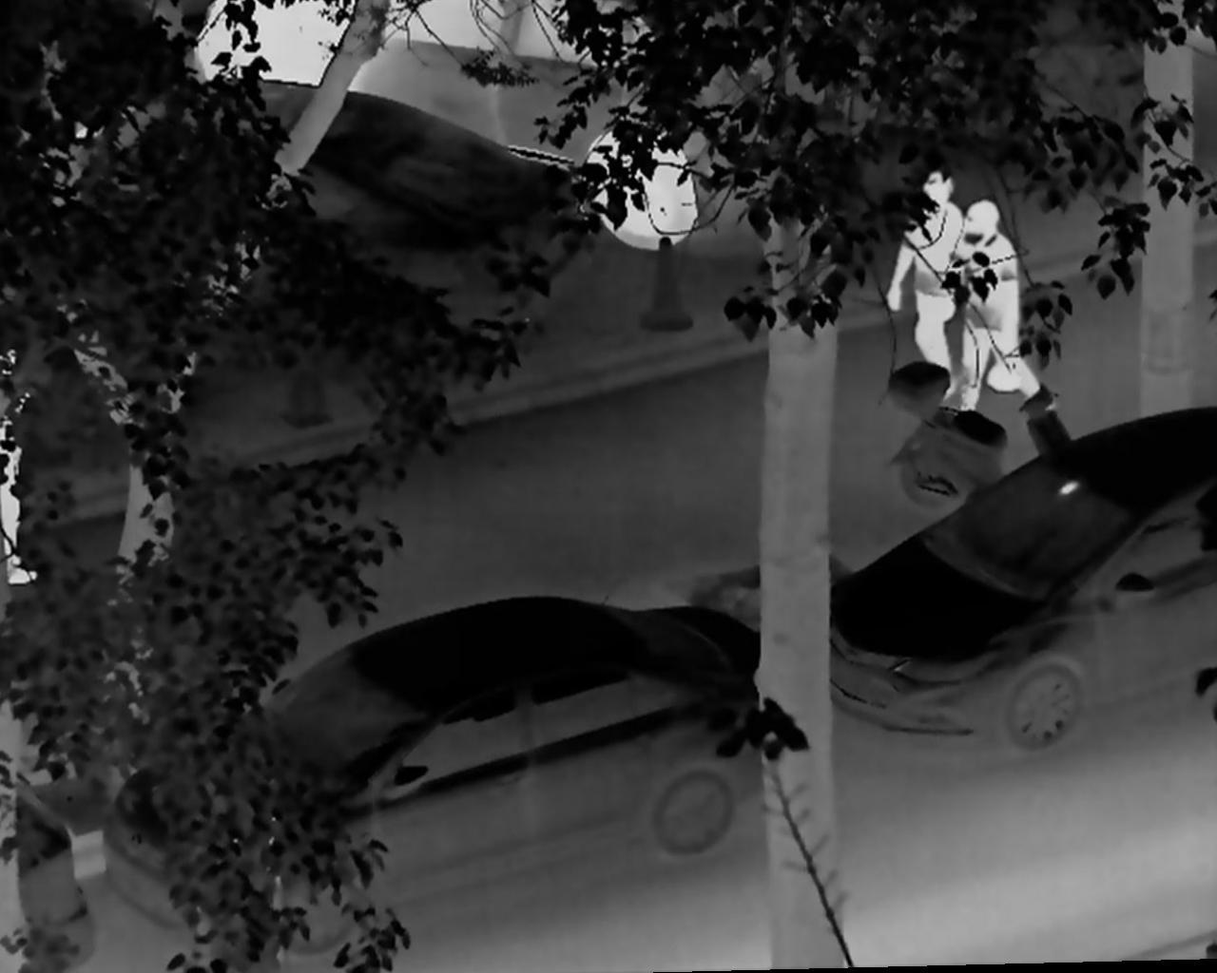person: (941, 201, 1052, 443), (884, 168, 993, 410)
